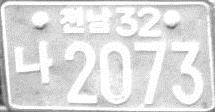0: (97, 39, 134, 106)
2: (63, 38, 98, 105), (137, 6, 163, 39)
3: (168, 39, 206, 105), (113, 5, 139, 38)
7: (130, 38, 167, 105)
나: (13, 39, 56, 86)
전남_O: (58, 6, 112, 36)
